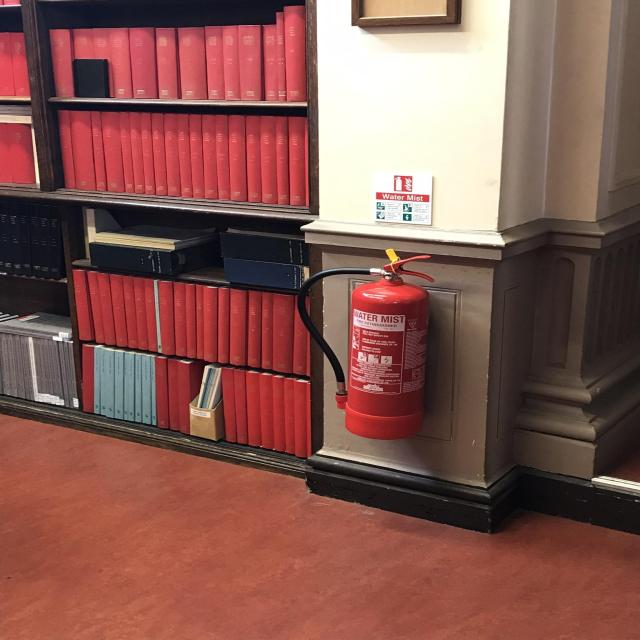fire_extinguisher: (293, 249, 439, 442)
